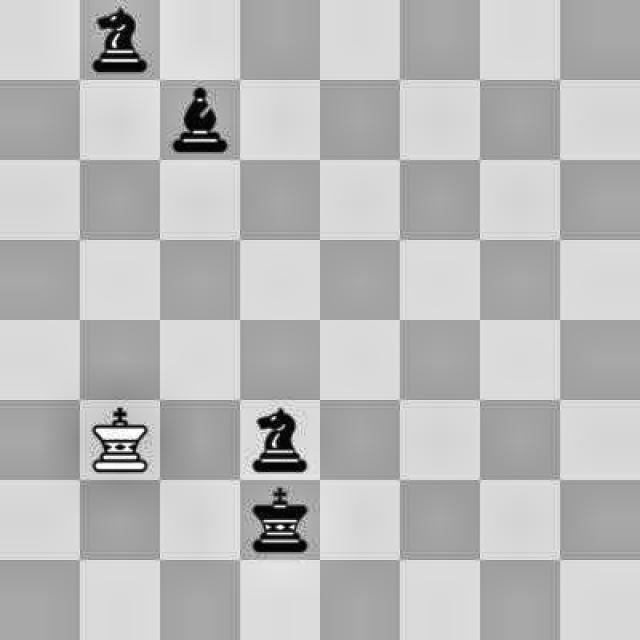Black Knight: (237, 402, 316, 476), (82, 3, 155, 83)
black bishop: (162, 80, 236, 161)
black king: (245, 480, 317, 559)
white king: (78, 400, 160, 476)
